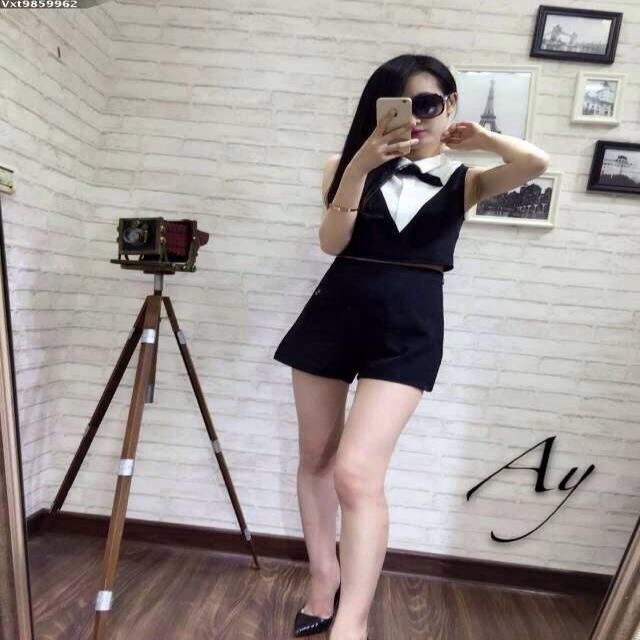shorts: (274, 258, 443, 390)
vest: (336, 151, 471, 269)
